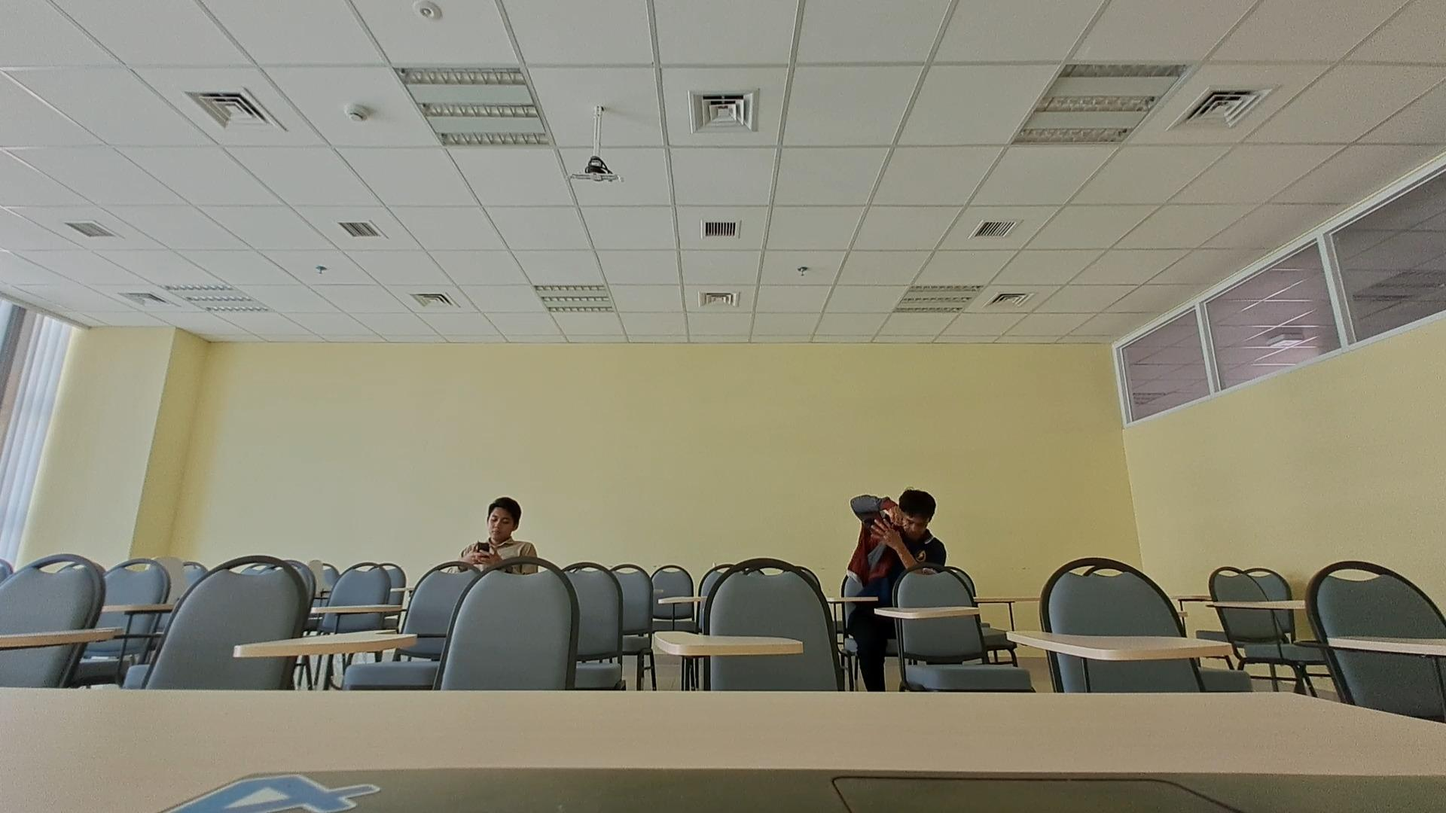phone: (459, 494, 537, 577)
